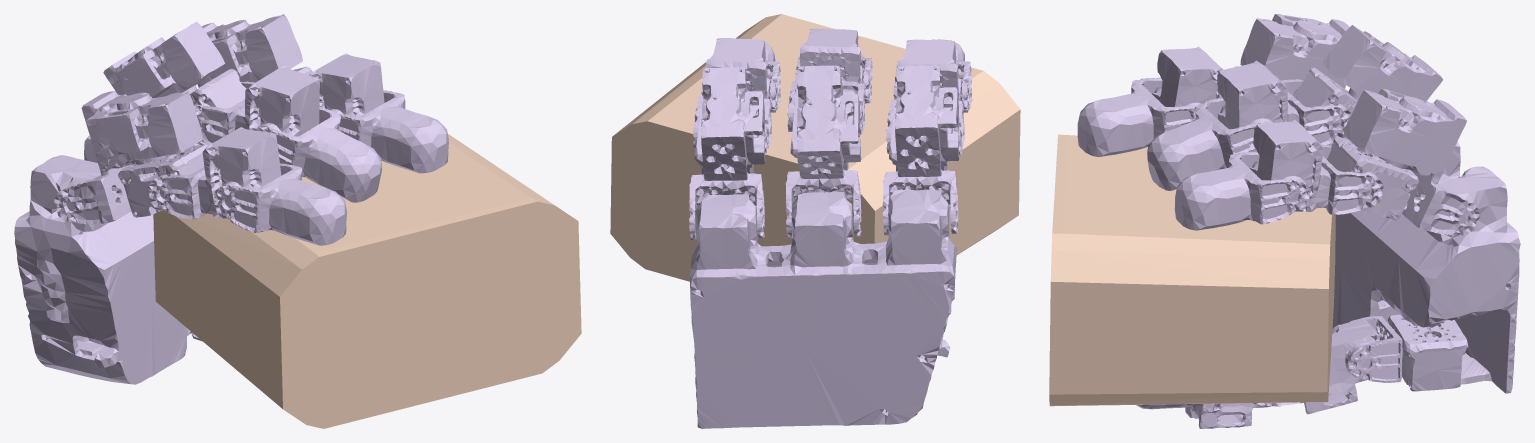
The model's file is b8ed9abe2551a6-closed.glb.
3 views of the same model, side by side, from view 1: azimuth 30°, elevation 25°; view 2: azimuth 150°, elevation 25°; view 3: azimuth 270°, elevation 25° (orthographic). The views are drawn at different scales.
Visible parts, largest first — view 1: LEAP_hand, world; view 2: LEAP_hand, world; view 3: LEAP_hand, world.
Part boxes in pixels (x1,y1,x2,y2): LEAP_hand: (14, 14, 448, 384); world: (153, 134, 581, 428); LEAP_hand: (689, 28, 972, 428); world: (610, 14, 1020, 281); LEAP_hand: (1077, 14, 1520, 428); world: (1049, 134, 1335, 406).
Size of the model in its own units: 0.2034 by 0.1708 by 0.2118.
